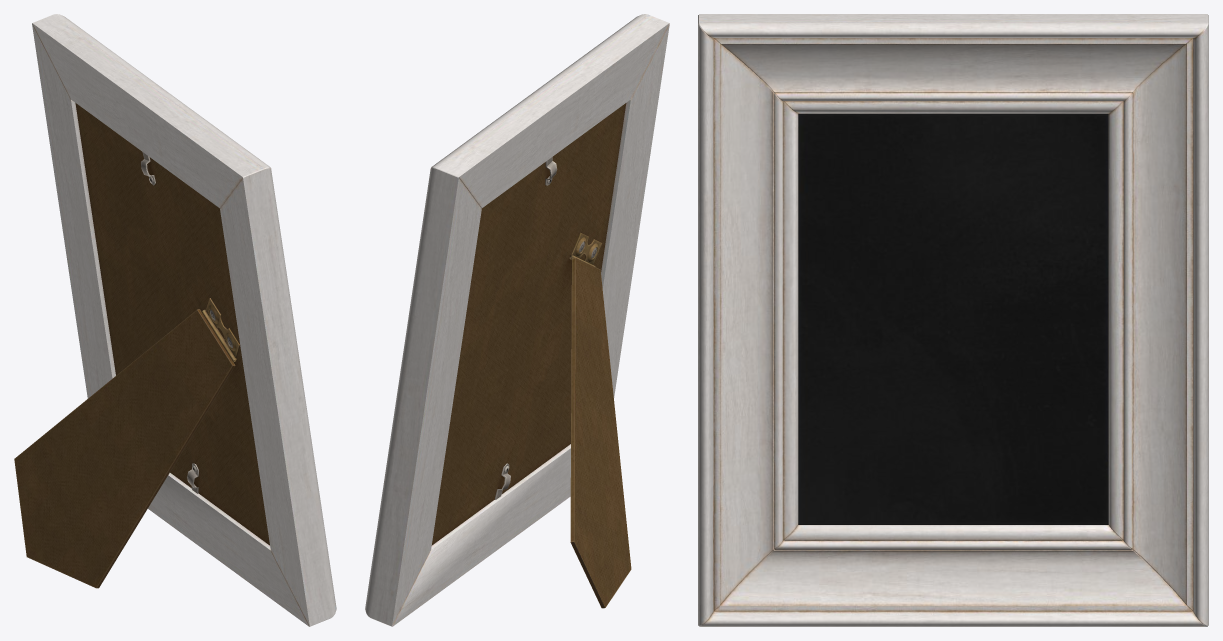
File: standing_picture_frame_02.glb
The picture shows the model from 3 angles, left to right: view 1: azimuth 30°, elevation 25°; view 2: azimuth 150°, elevation 25°; view 3: azimuth 270°, elevation 25°; orthographic projection. The views are drawn at different scales.
Parts seen in each view (by area): view 1: standing_picture_frame_02; view 2: standing_picture_frame_02; view 3: standing_picture_frame_02.
Boxes of the visible parts, x1,y1,x2,y2 form: standing_picture_frame_02: (14,14,336,626); standing_picture_frame_02: (365,14,669,626); standing_picture_frame_02: (698,14,1208,626).
Size of the model in its own units: 0.1023 by 0.2664 by 0.2169.
3 materials, 3 textured.
